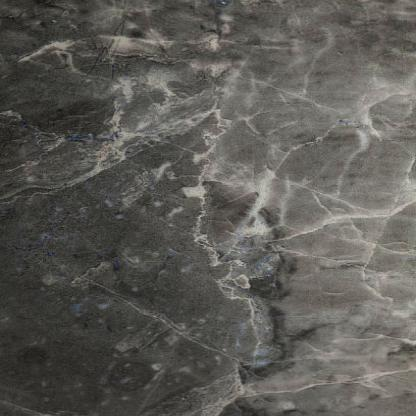Metamorphic_Marble: (2, 4, 415, 415)
